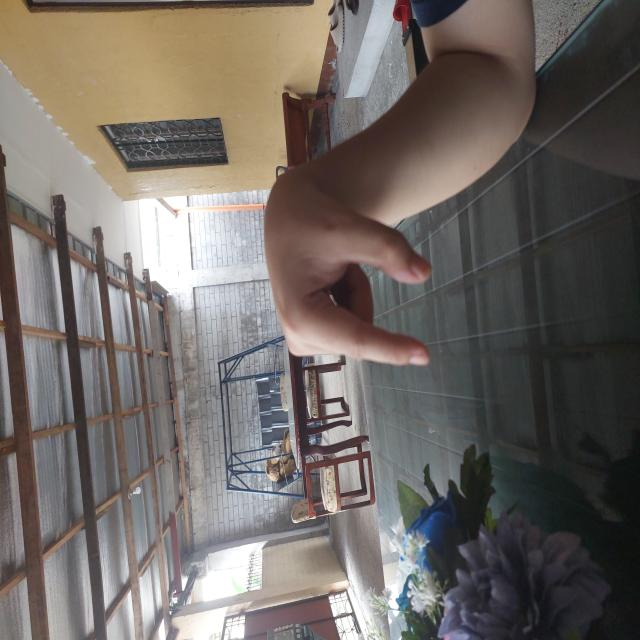Q: (251, 206, 433, 380)
